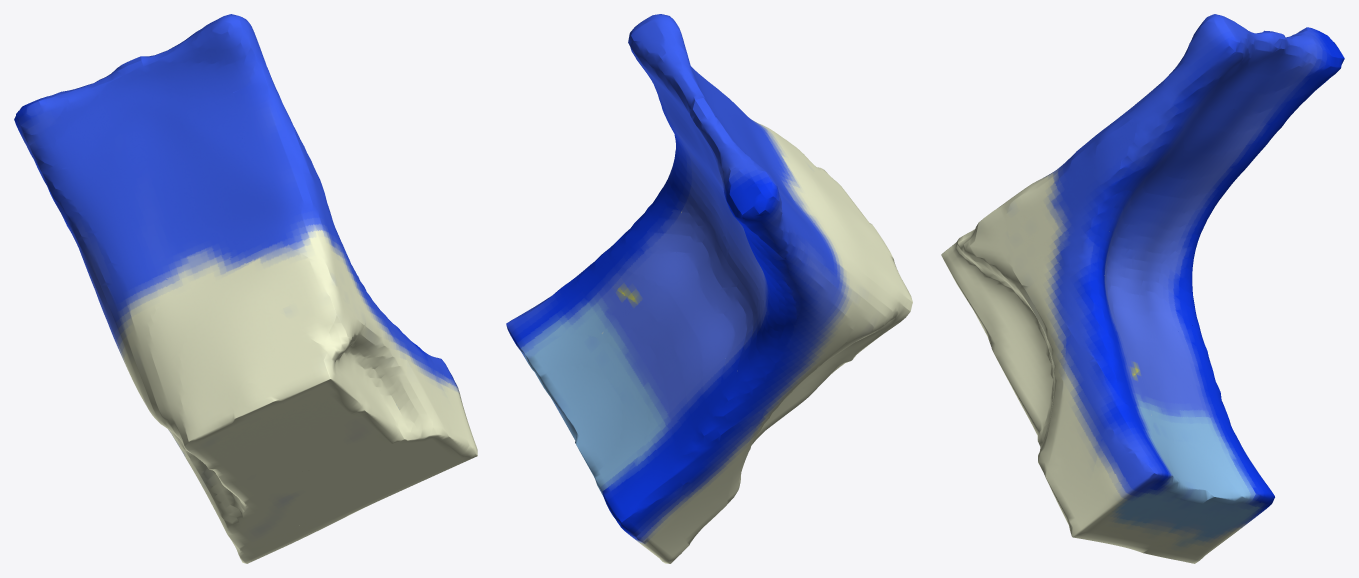
Rendered from chair.fbx.
The picture shows the model from 3 angles, left to right: view 1: azimuth 30°, elevation 25°; view 2: azimuth 150°, elevation 25°; view 3: azimuth 270°, elevation 25°; orthographic projection. The views are drawn at different scales.
Parts seen in each view (by area): view 1: Layer_1; view 2: Layer_1; view 3: Layer_1.
Boxes of the visible parts, <box> form: Layer_1: <box>14,14,477,563</box>; Layer_1: <box>506,14,912,563</box>; Layer_1: <box>941,14,1344,563</box>.
Size of the model in its own units: 0.3642 by 0.3659 by 0.5445.
